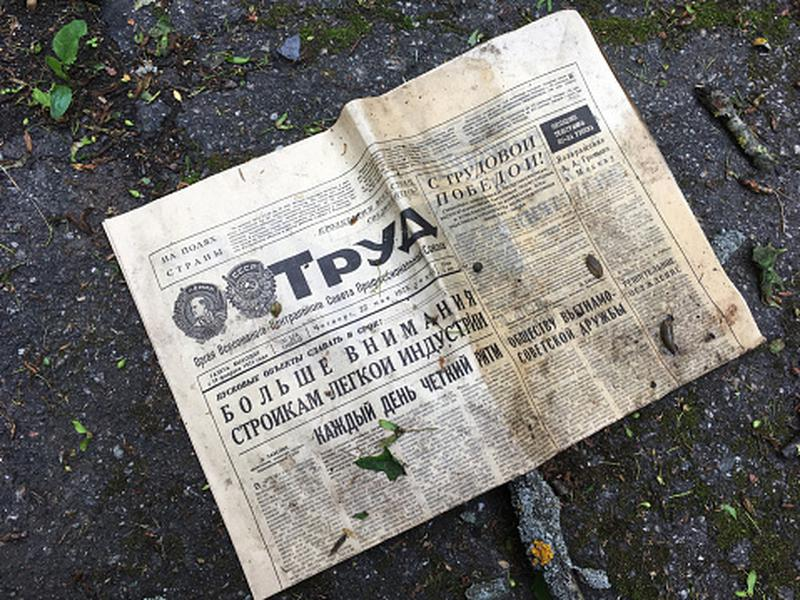paper: (86, 11, 772, 600)
